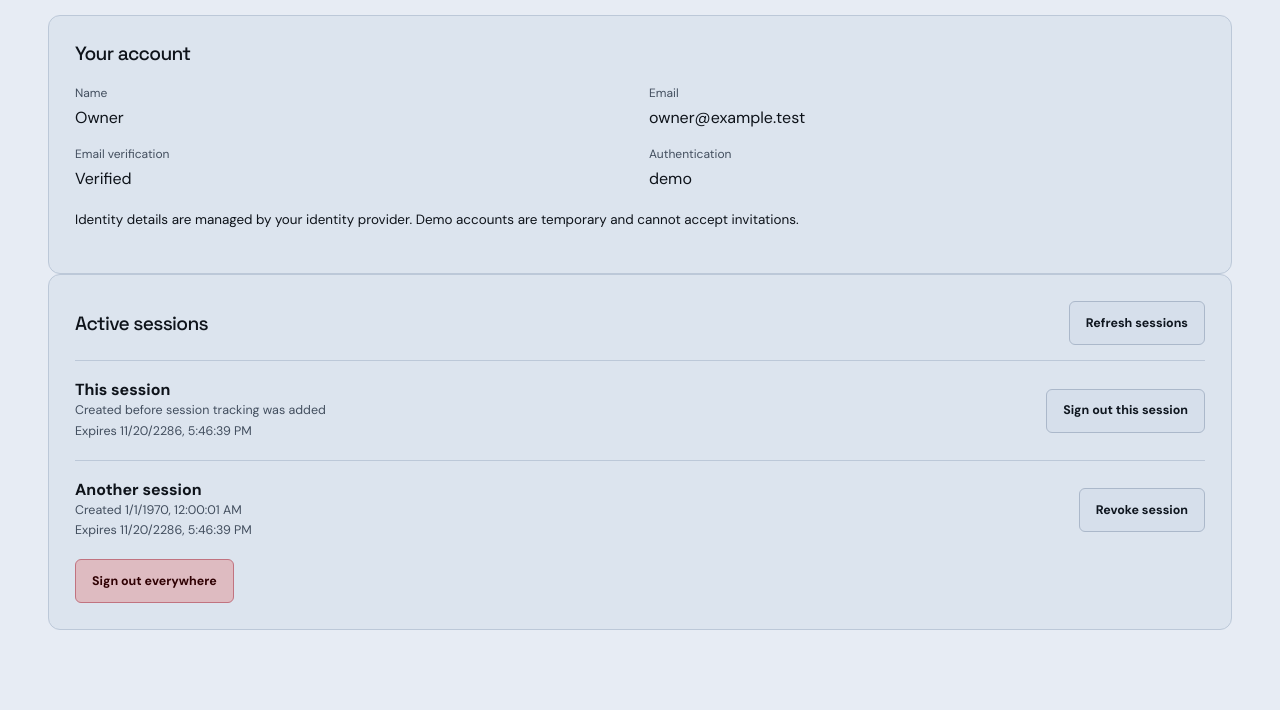
Test: account sessions › revokes a selected session without exposing token material
(page scrolled)
Click the button "Revoke session" at [1142, 510], box [1079, 488, 1205, 532]
(page scrolled)
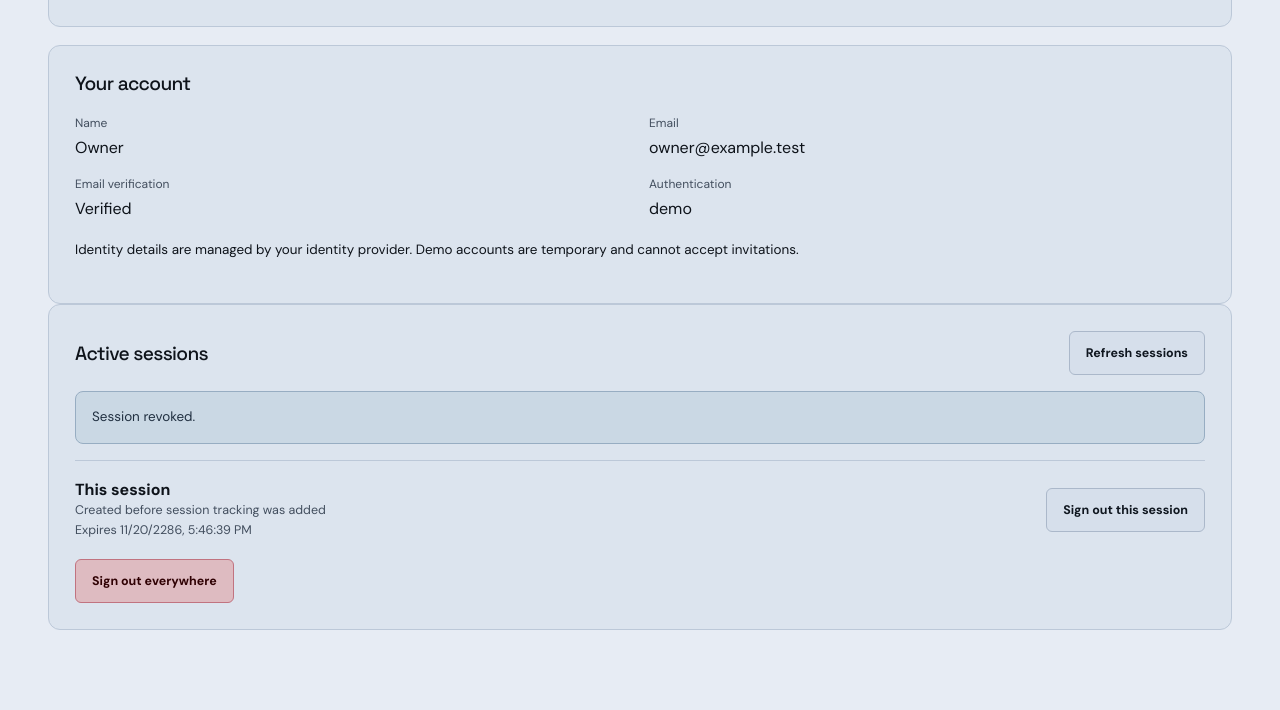
Expected: the text "owner@example.test" is shown, [649, 137, 805, 158]
Result: the text "Another session" is gone
